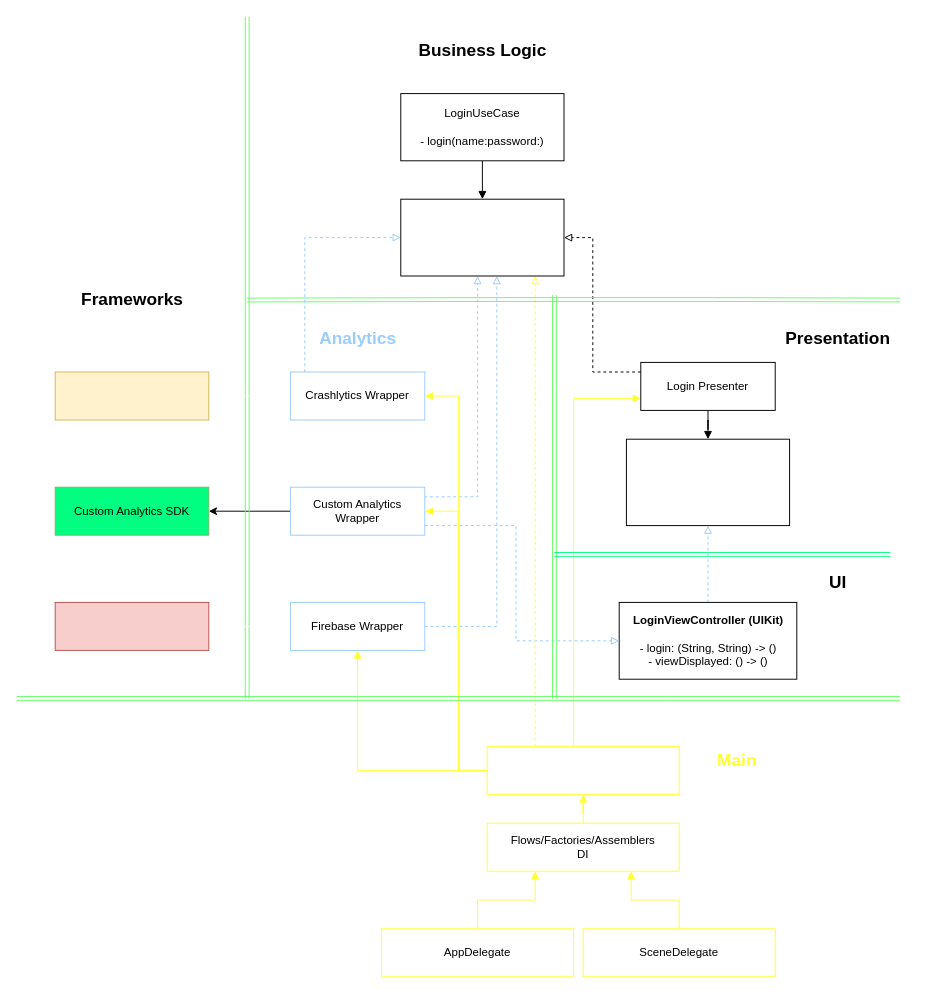
The diagram is 944 pixels wide and 994 high, and some of its shapes have lost their labels. The shapes that lost their labels are listed below. From the top down, each one's centre as x and y in pixels, then its label:
At (x=482, y=237): "<LoginUseCaseOutput> - loginSucceeded(User) - loginFailed(Error)".
At (x=131, y=395): "Crashlytics".
At (x=707, y=482): "<LoginView> - display(WelcomeMessage) - display(ErrorMessage)".
At (x=131, y=625): "Firebase SDK".
At (x=582, y=769): "ComposeLoginUseCaseDelegate".
